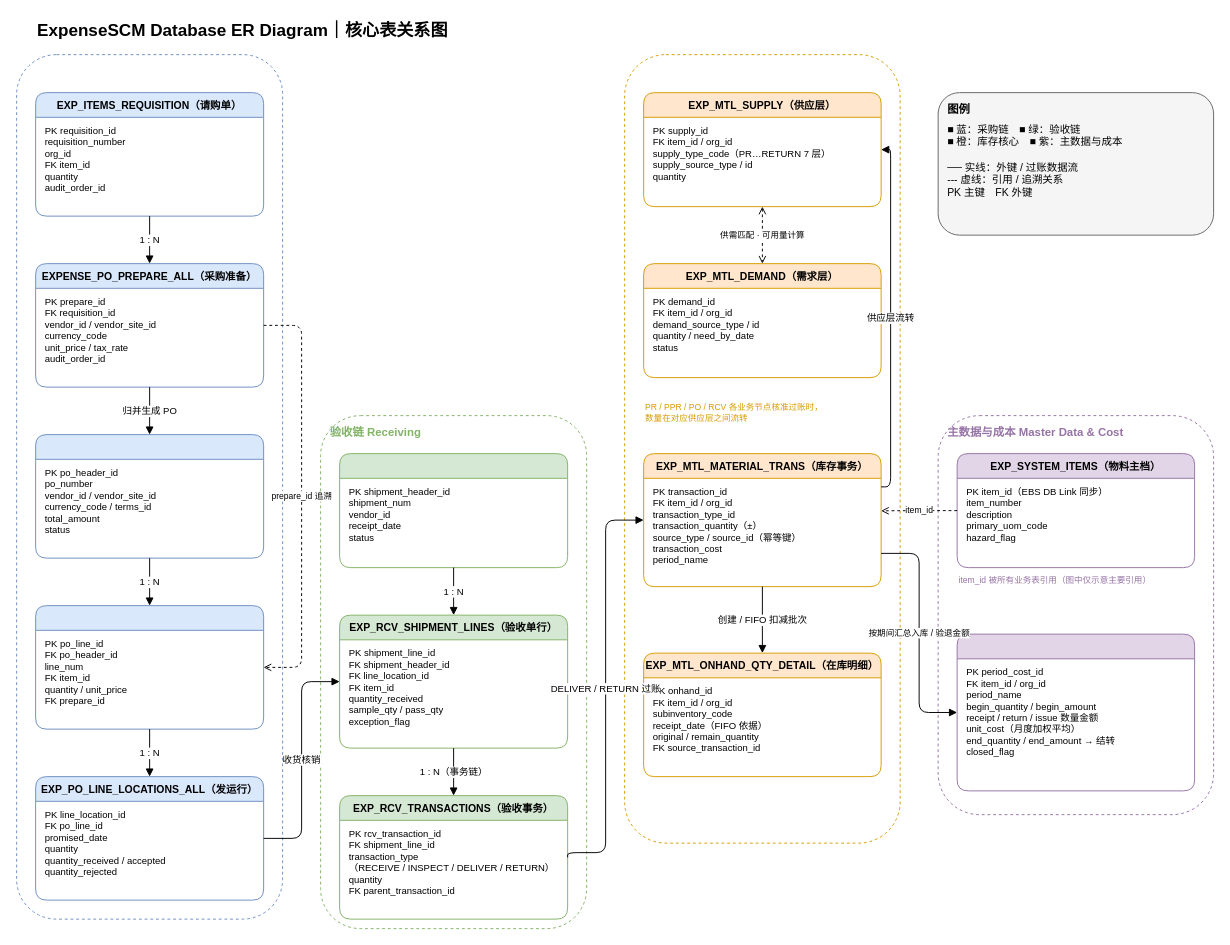
This 1230x945 diagram has some shape labels left out. The shapes that lost their labels are listed below. From the top down, each one's box as (x1, y1, x2, y2) in pixels, then its label:
(624, 54, 900, 843): 库存核心 Inventory Core
(16, 54, 283, 919): 采购链 Procurement
(35, 434, 264, 558): EXP_PO_HEADERS_ALL（采购订单头）
(339, 453, 568, 568): EXP_RCV_SHIPMENT_HEADERS（验收单头）
(35, 605, 264, 729): EXP_PO_LINES_ALL（采购订单行）
(956, 633, 1195, 791): ITEM_PERIOD_COST（期间成本）
